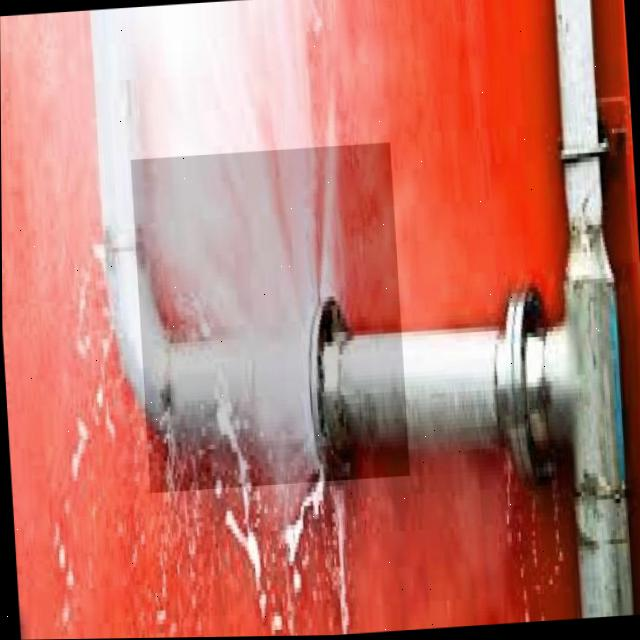corrosion: (128, 139, 411, 487)
